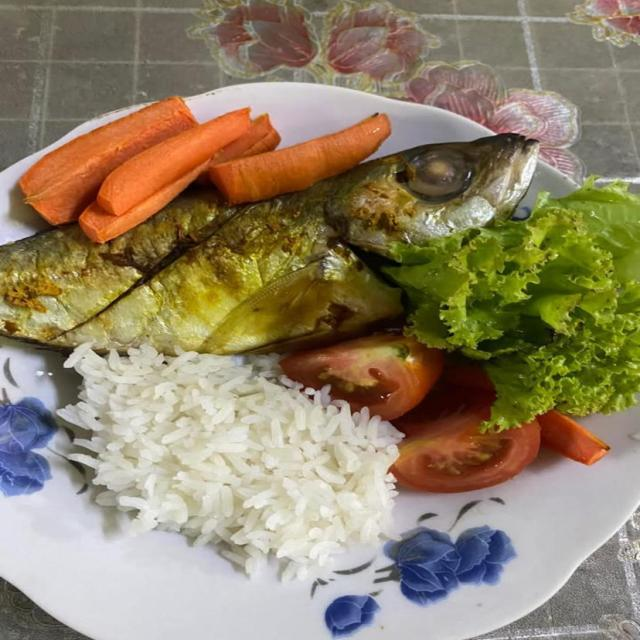Fish: (0, 129, 549, 357)
Plate: (0, 408, 639, 639)
Rice: (49, 346, 409, 584)
Vegetables: (274, 182, 639, 496), (18, 97, 392, 243)
